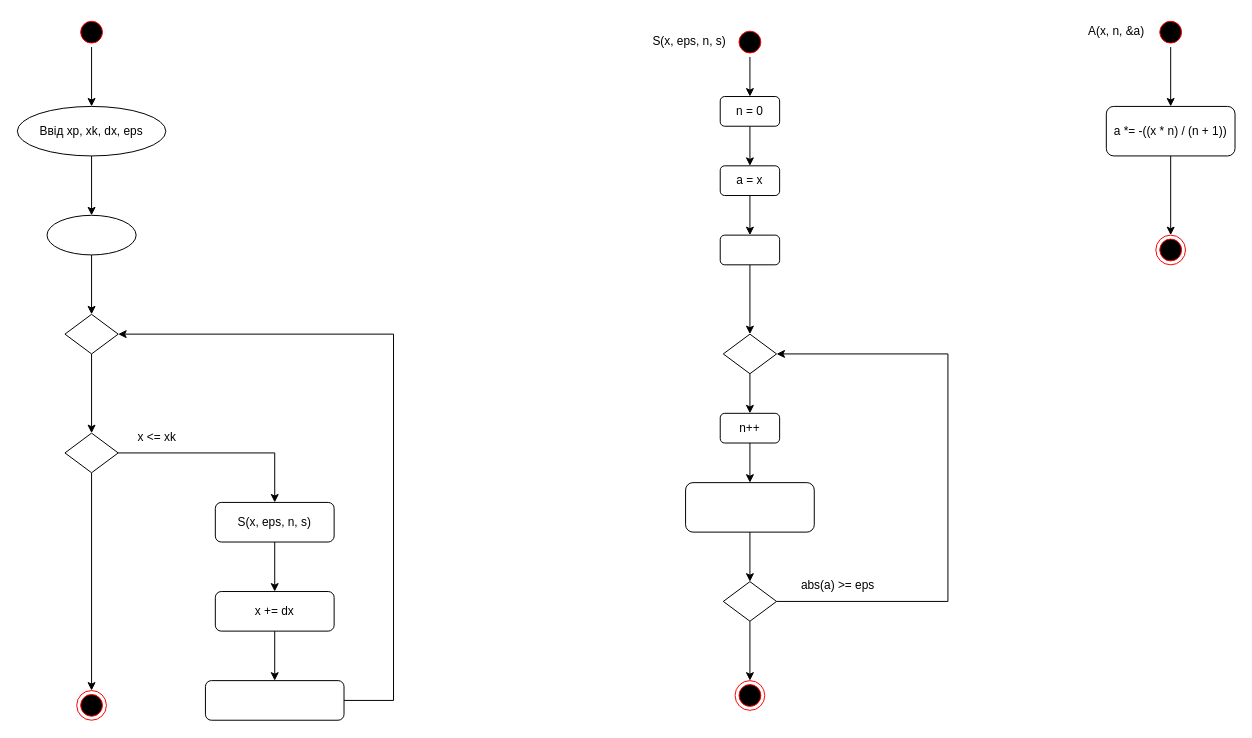
The diagram is 1252 pixels wide and 738 high, and some of its shapes have lost their labels. The box of each missing label's shape, as (x1, y1, x2, y2) in pixels:
A(x, n, a): (685, 482, 814, 532)
s = a: (719, 234, 780, 265)
x = xp: (46, 214, 136, 255)
Вивід x, log(x + 1), s, n: (204, 680, 344, 720)
